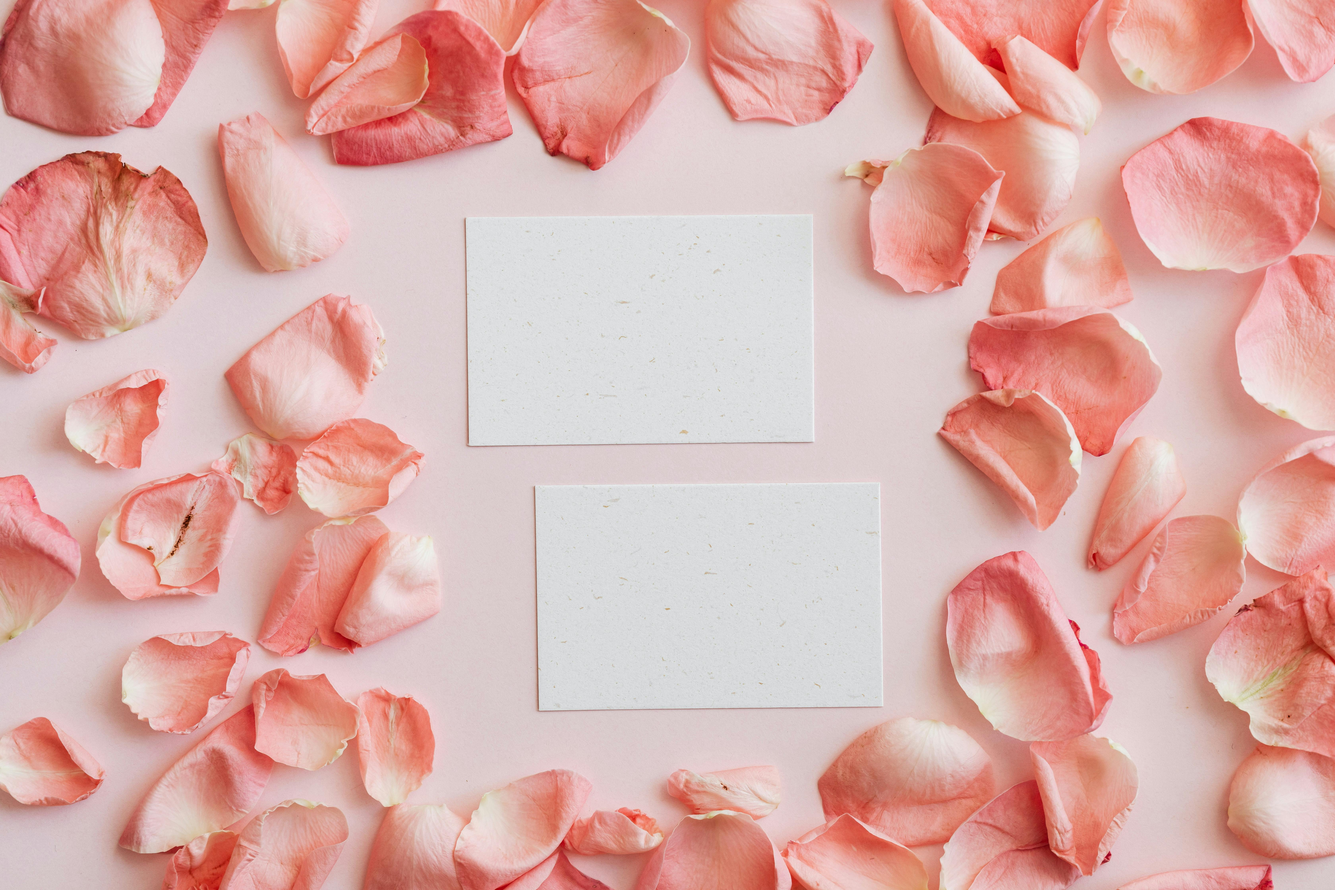paper: (464, 213, 815, 446), (532, 482, 885, 711)
